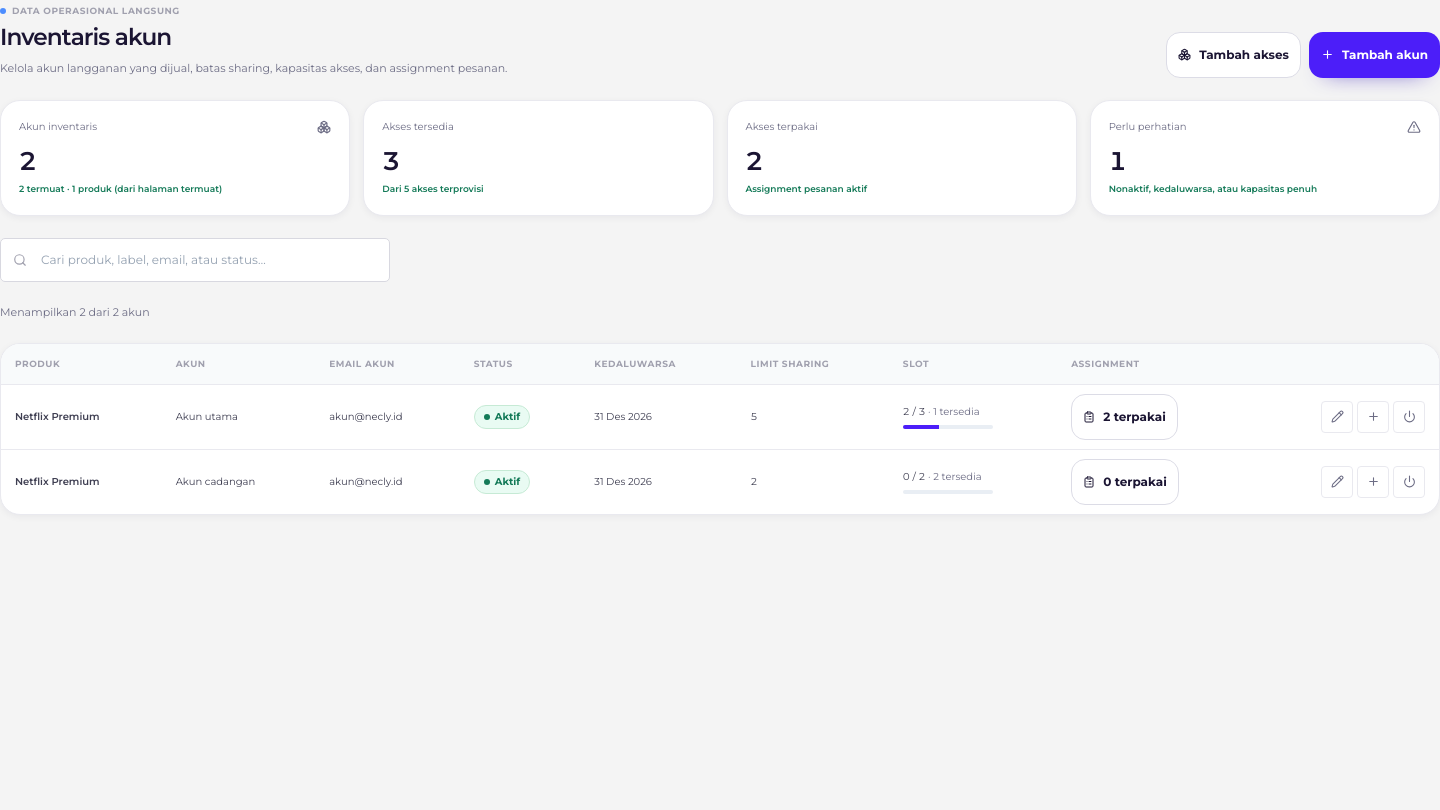
Test case: Halaman Inventaris akun › mewajibkan kata sandi saat email akun diubah
This screenshot has width=1440, height=810.
expect the text "Akun utama" is shown: met, box [162,384,315,449]
Click the button named "Kelola akun Akun utama" at (1337, 417), box [1321,401,1353,433]
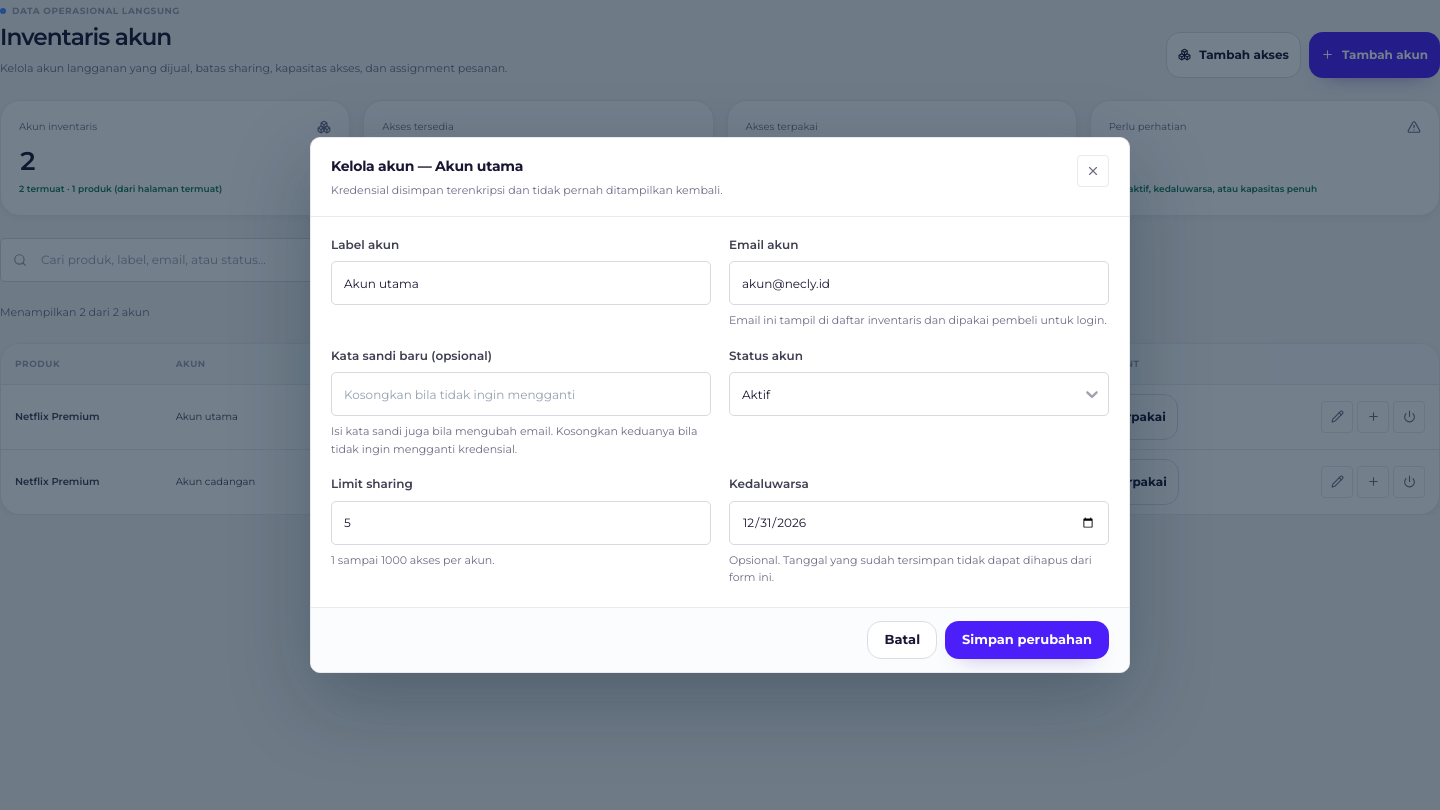
Replace the text in the field labelled "Email akun" with "email-baru@necly.id" at (919, 283), box [729,261,1109,305]
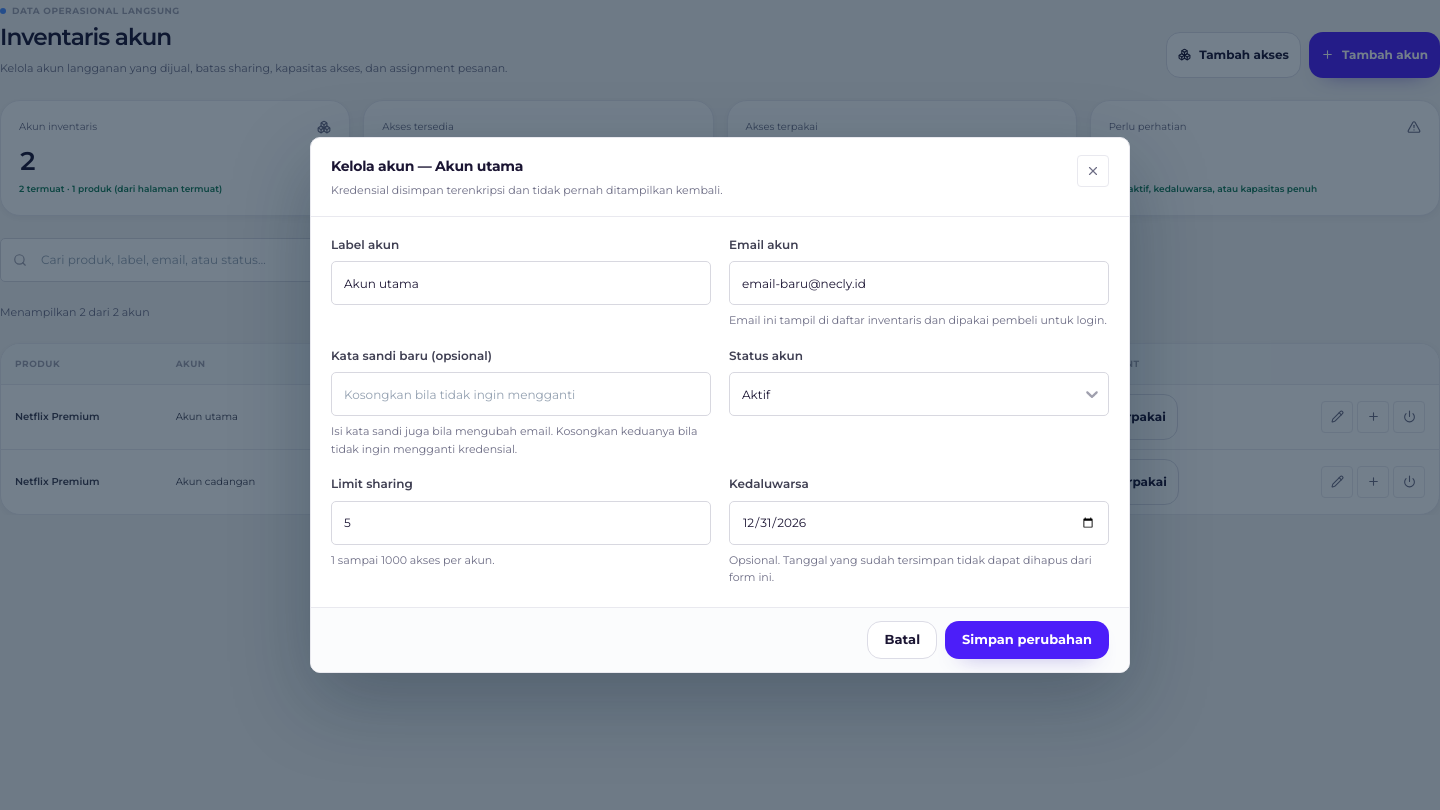
Click the button "Simpan perubahan" at (1027, 640), box [945,621,1109,659]
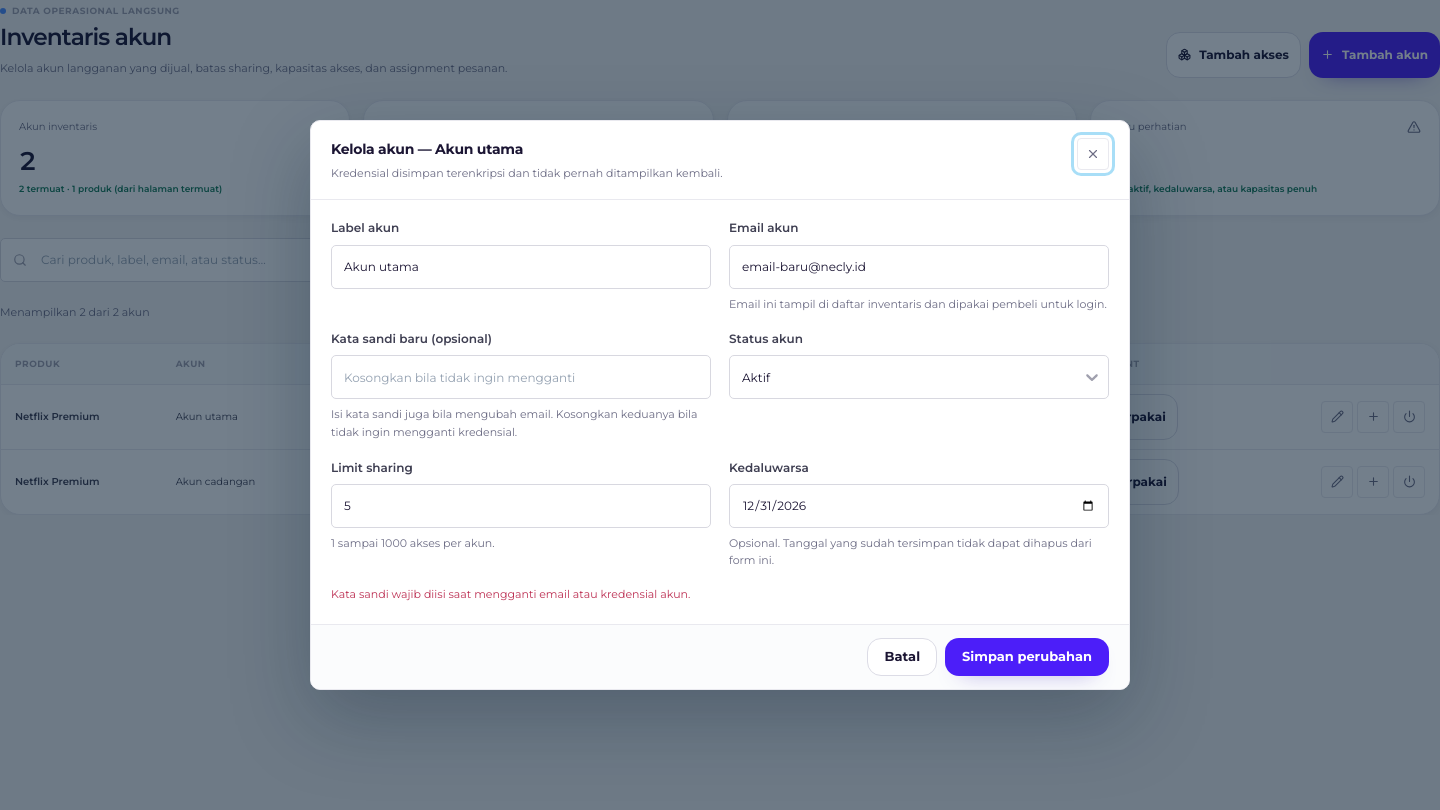
expect the text "Kata sandi wajib diisi saat mengganti email atau kredensial akun." is shown: met, box [331,587,690,601]
